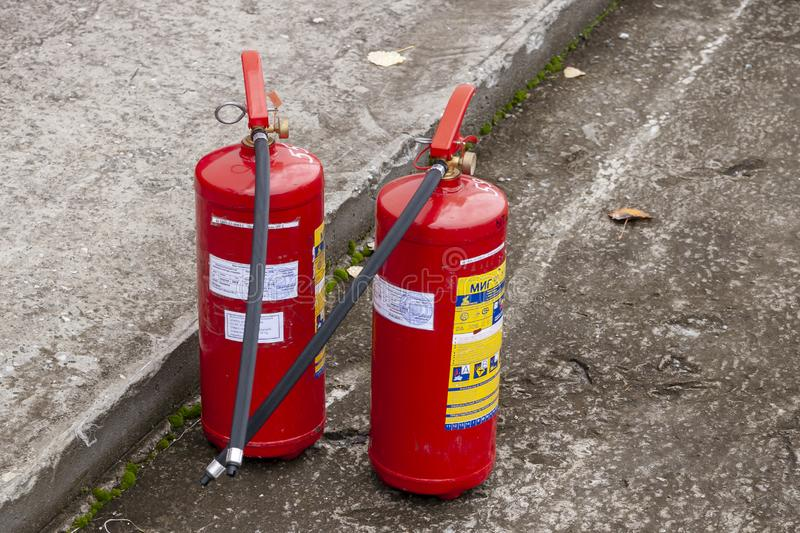fire_extinguisher: (367, 82, 509, 500), (193, 50, 327, 472)
